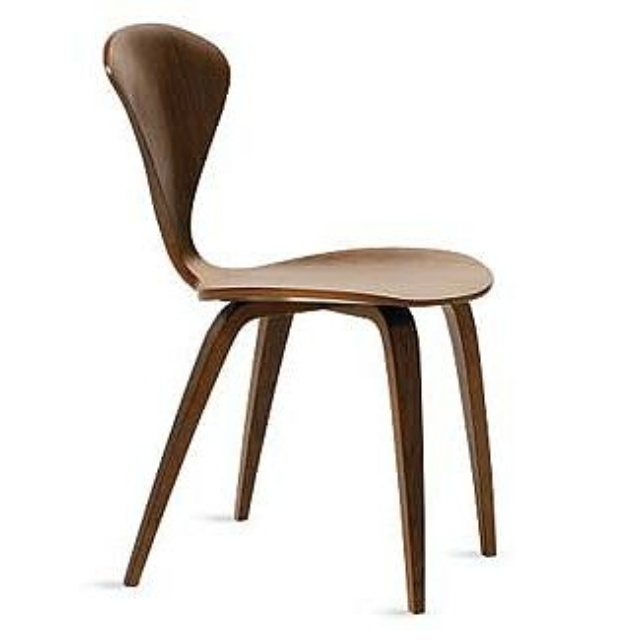obstacle: (104, 24, 494, 612)
